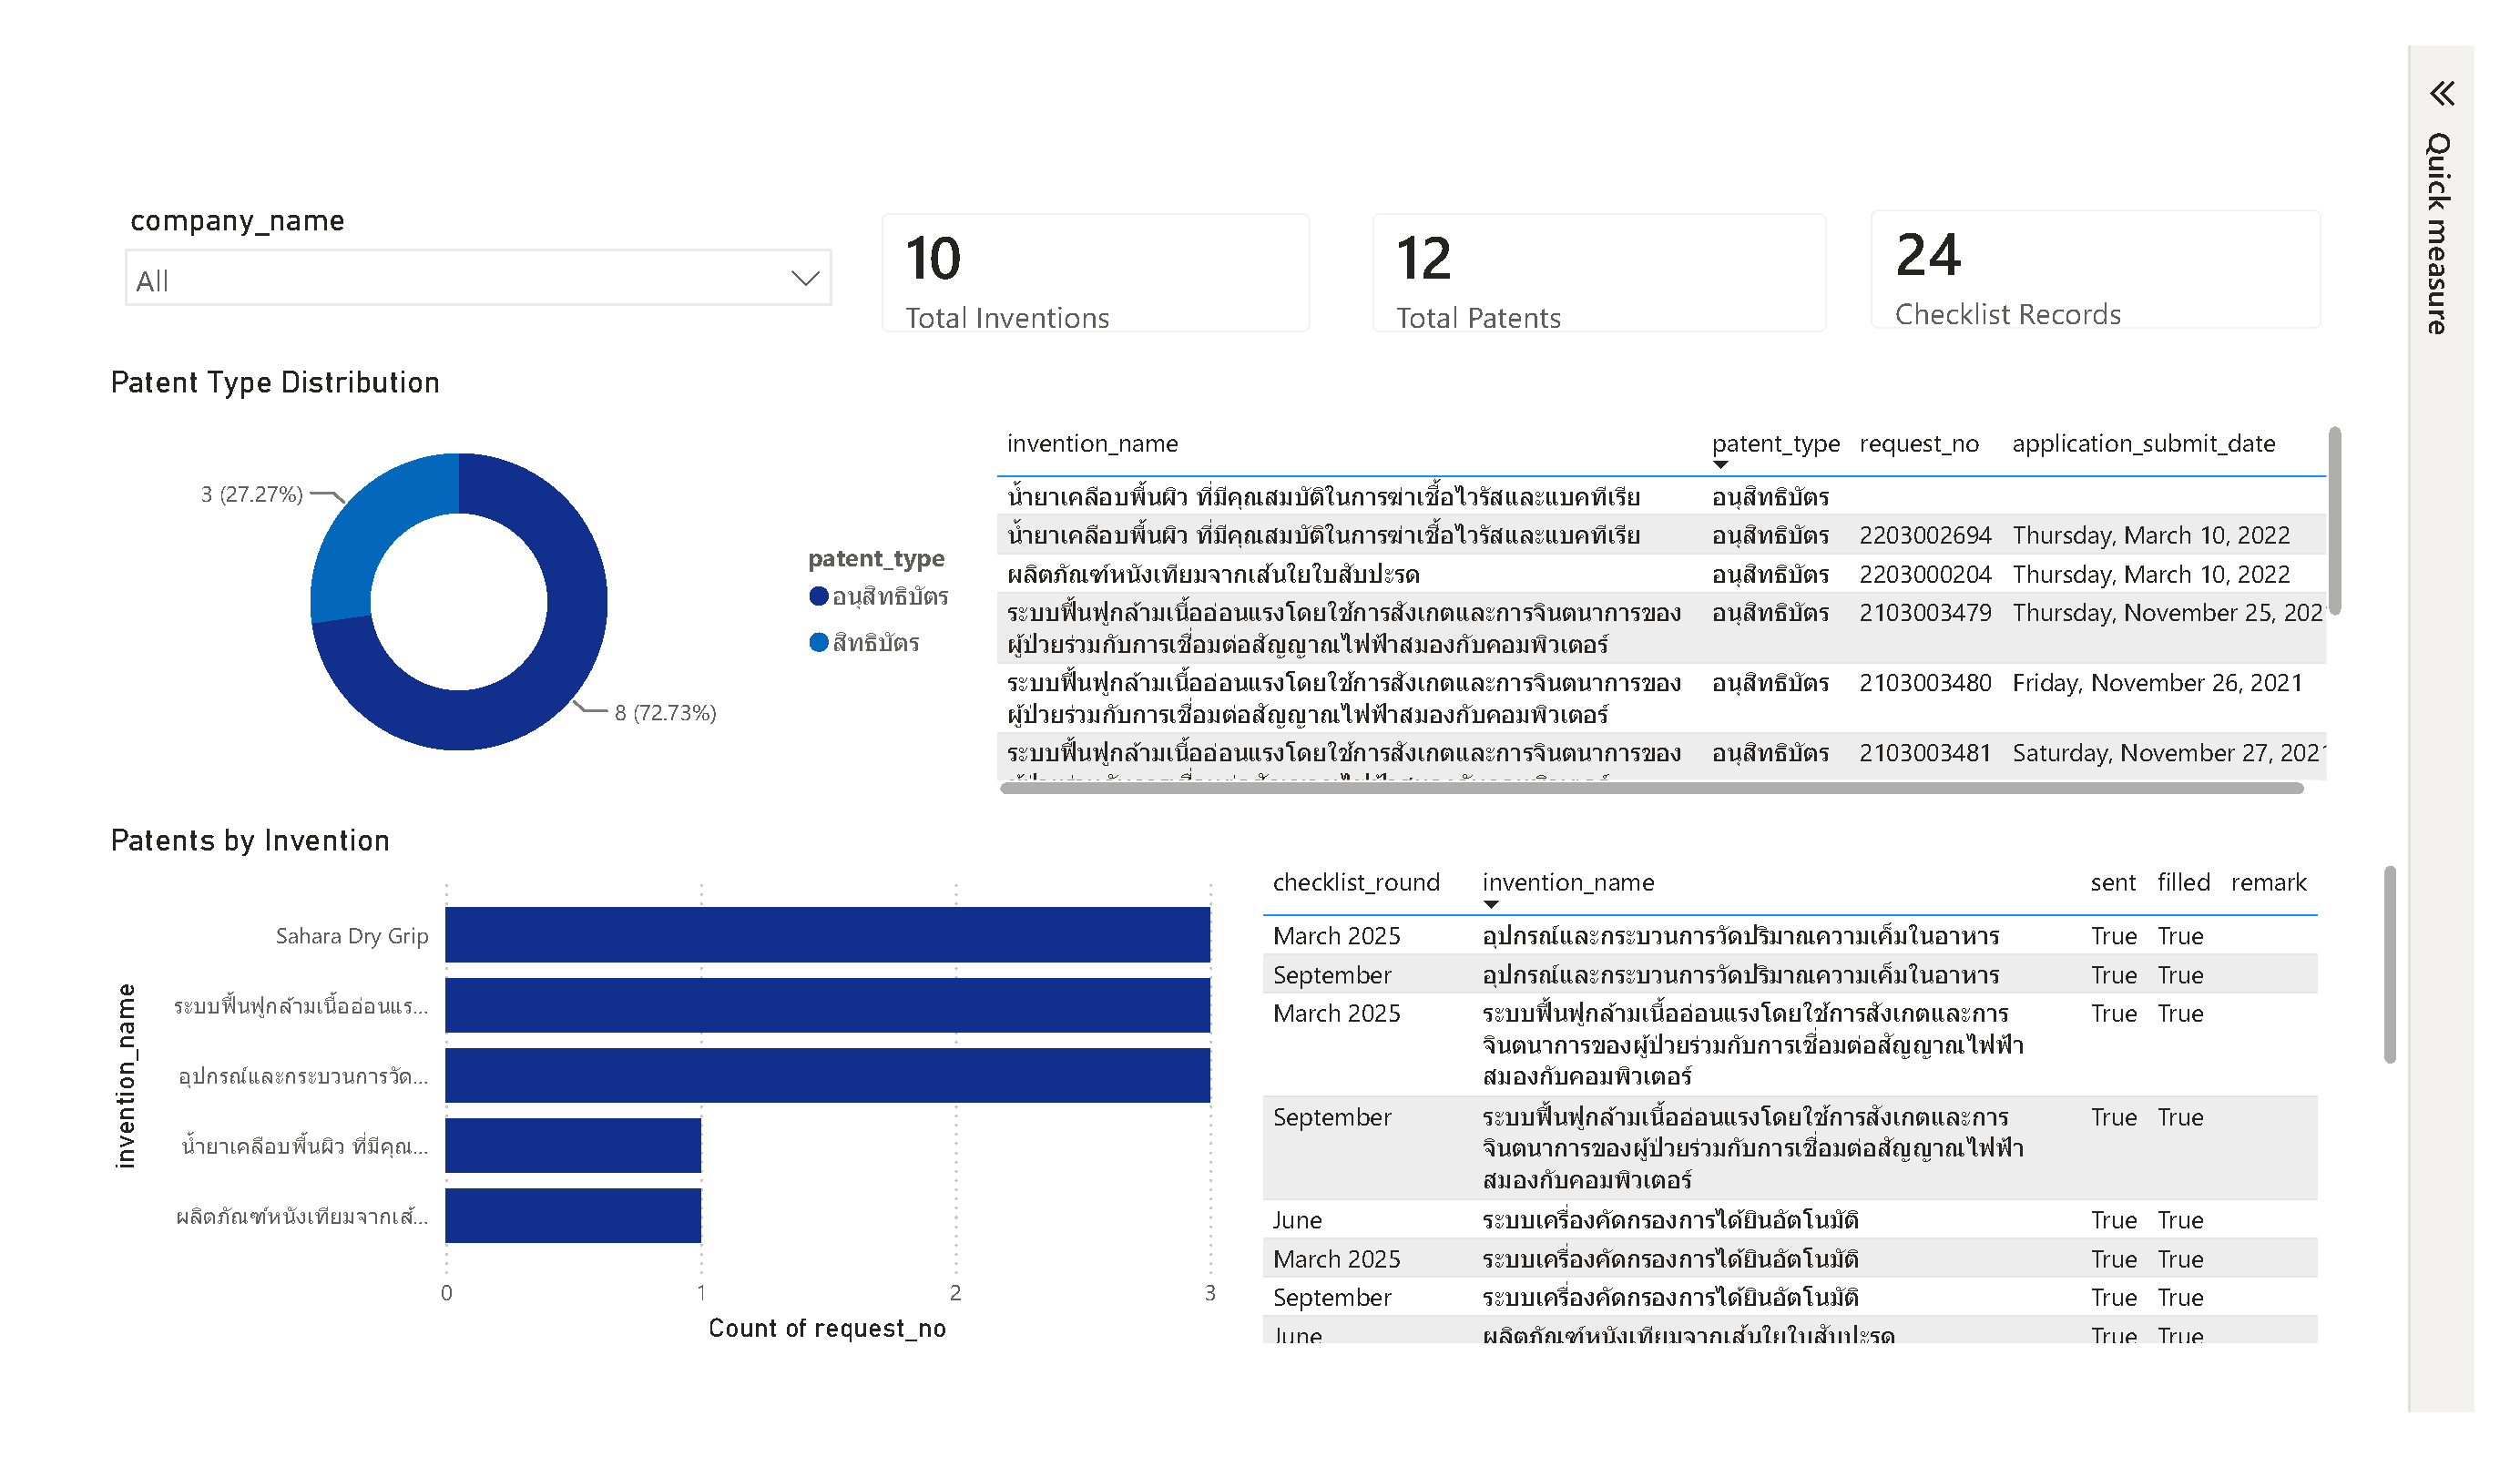

What the dashboard file says about the page in this screenshot:
{"tool":"powerbi","page":{"name":"Innovation","canvas":[1280,720],"ordinal":3},"visuals":[{"type":"slicer","fields":{"Values":["public company_profile_view.company_name"]},"box":[32.9,68.6,402.9,94.3],"z":0},{"type":"cardVisual","fields":{"Data":["Sum(public company_profile_view.total_inventions)"]},"box":[436,64,266,98],"z":1000},{"type":"cardVisual","fields":{"Data":["Sum(public company_profile_view.total_patents)"]},"box":[702,64,280,98],"z":2000},{"type":"cardVisual","fields":{"Data":["Sum(public company_profile_view.checklist_records)"]},"box":[972,62,278,98],"z":3000},{"type":"donutChart","title":"Patent Type Distribution","fields":{"Category":["public company_patent_summary.patent_type"],"Y":["CountNonNull(public company_patent_summary.request_no)"]},"box":[30,162,480,240],"z":4000},{"type":"clusteredBarChart","title":"Patents by Invention","fields":{"Category":["public company_patent_summary.invention_name"],"Y":["CountNonNull(public company_patent_summary.request_no)"]},"box":[30,410,610,288],"z":5000},{"type":"tableEx","fields":{"Values":["public company_patent_summary.invention_name","public company_patent_summary.patent_type","public company_patent_summary.request_no","public company_patent_summary.application_submit_date"]},"box":[510,190,740,212],"z":6000},{"type":"tableEx","fields":{"Values":["public company_checklist_summary.checklist_round","public company_checklist_summary.invention_name","public company_checklist_summary.sent","public company_checklist_summary.filled","public company_checklist_summary.remark"]},"box":[654,428,626,270],"z":7000}]}

Visuals, with their boxes on the page's 1280x720 design canvas (x1, y1, x2, y2). These are canvas units, not pixel positions in the 2520x1457 screenshot, which may show the page scaled, cropped or inside an application window:
slicer - public company_profile_view.company_name: (33,69,436,163)
cardVisual - Sum(public company_profile_view.total_inventions): (436,64,702,162)
cardVisual - Sum(public company_profile_view.total_patents): (702,64,982,162)
cardVisual - Sum(public company_profile_view.checklist_records): (972,62,1250,160)
"Patent Type Distribution" donutChart: (30,162,510,402)
"Patents by Invention" clusteredBarChart: (30,410,640,698)
tableEx - public company_patent_summary.invention_name x public company_patent_summary.patent_type: (510,190,1250,402)
tableEx - public company_checklist_summary.checklist_round x public company_checklist_summary.invention_name: (654,428,1280,698)
